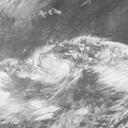cyclone: (23, 40, 94, 102)
